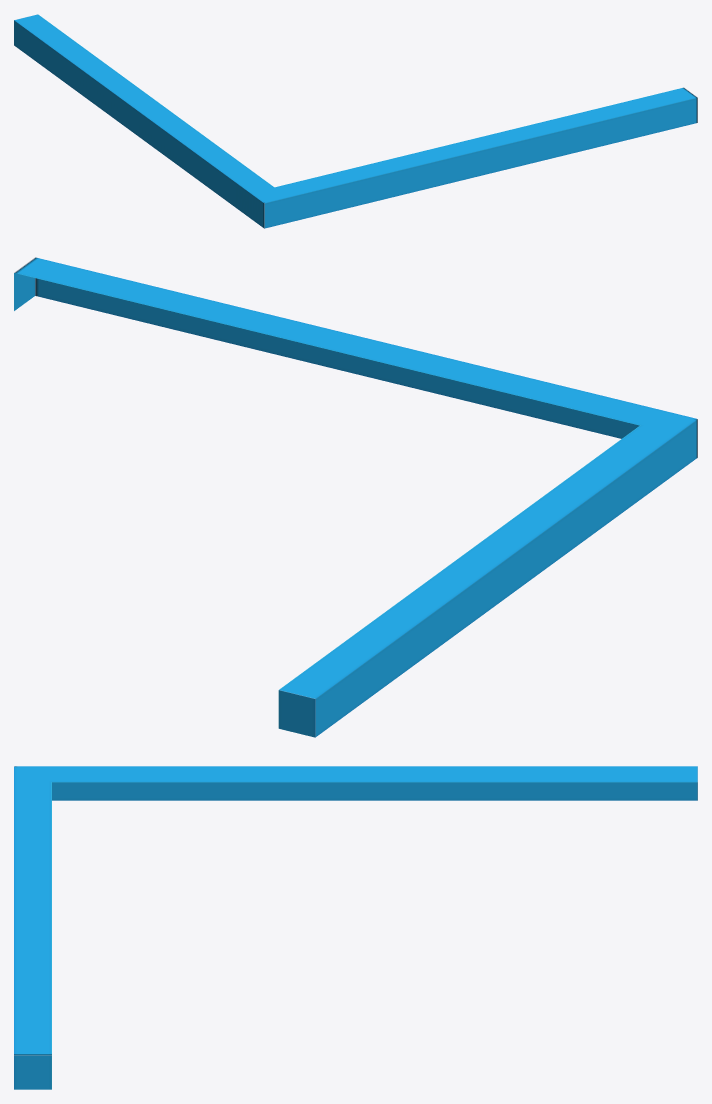
The model's file is MK_Wall_Trim_G_Corner_Out.fbx.
3 views of the same model, one above another, from view 1: azimuth 30°, elevation 25°; view 2: azimuth 150°, elevation 25°; view 3: azimuth 270°, elevation 25° (orthographic). The views are drawn at different scales.
Visible parts, largest first — view 1: Wall_Trim_G_Corner_Out; view 2: Wall_Trim_G_Corner_Out; view 3: Wall_Trim_G_Corner_Out.
Part boxes in pixels (x1,y1,x2,y2): Wall_Trim_G_Corner_Out: (14,14,697,228); Wall_Trim_G_Corner_Out: (14,257,697,737); Wall_Trim_G_Corner_Out: (14,766,697,1089).
Size of the model in its own units: 203 by 11.25 by 202.
Materials: 1 (1 with a texture image).
